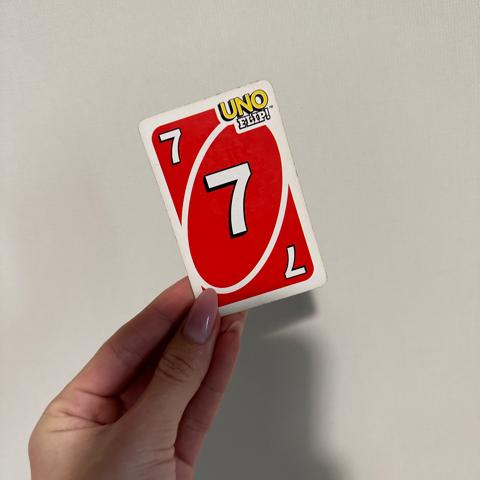3_yellow: (207, 161, 262, 239), (159, 123, 191, 165), (278, 241, 309, 281)
